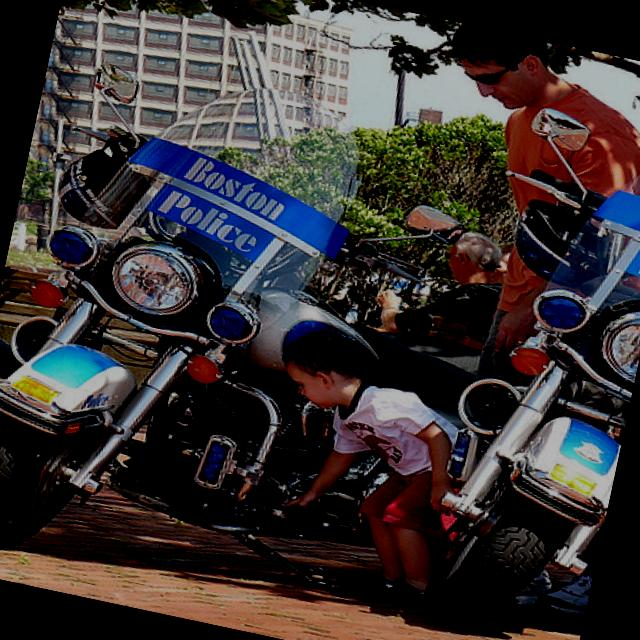Vehicle: (0, 37, 556, 640), (399, 99, 640, 640)
